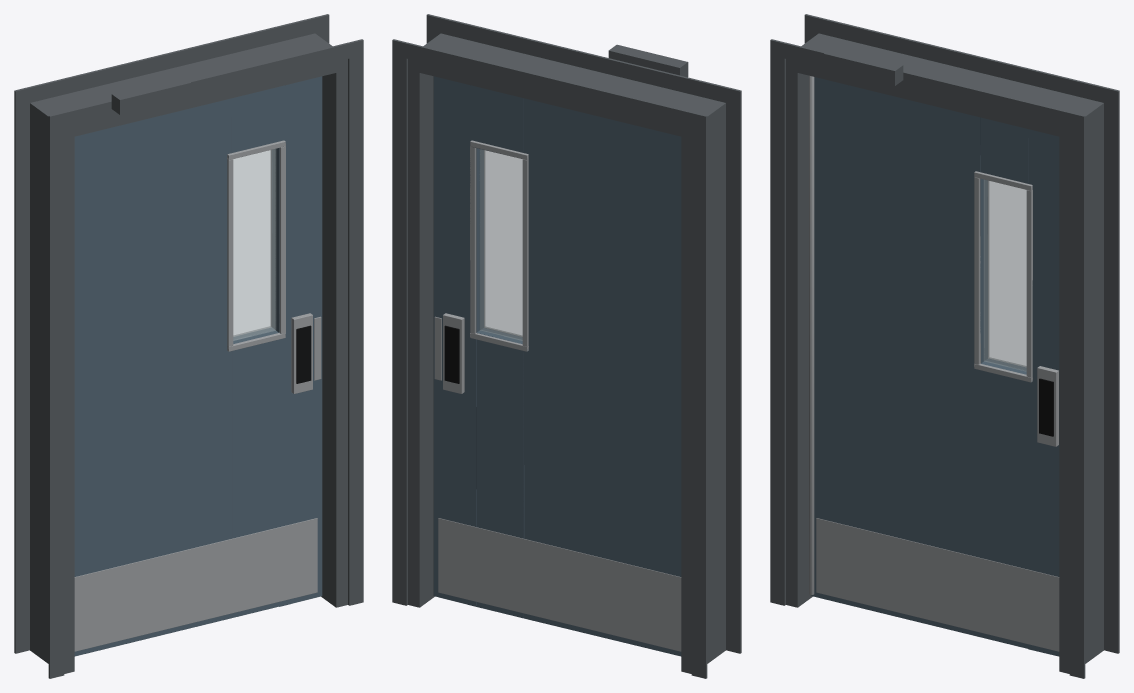
Rendered from DOOR_Secure_Single_1200.glb.
3 renders of one model, left to right at view 1: azimuth 30°, elevation 25°; view 2: azimuth 150°, elevation 25°; view 3: azimuth 330°, elevation 25°, orthographic.
Visible parts, largest first — view 1: DOOR_Secure_Single_1200_Leaf, DOOR_Secure_Single_1200_Frame; view 2: DOOR_Secure_Single_1200_Leaf, DOOR_Secure_Single_1200_Frame; view 3: DOOR_Secure_Single_1200_Leaf, DOOR_Secure_Single_1200_Frame.
Part boxes in pixels (x1,y1,x2,y2): DOOR_Secure_Single_1200_Leaf: (74, 76, 322, 656); DOOR_Secure_Single_1200_Frame: (14, 14, 363, 678); DOOR_Secure_Single_1200_Leaf: (433, 76, 681, 656); DOOR_Secure_Single_1200_Frame: (392, 14, 741, 678); DOOR_Secure_Single_1200_Leaf: (809, 75, 1059, 656); DOOR_Secure_Single_1200_Frame: (770, 14, 1119, 678).
Size of what is drawn, in the model's own units: 1.32 by 2.29 by 0.32.
